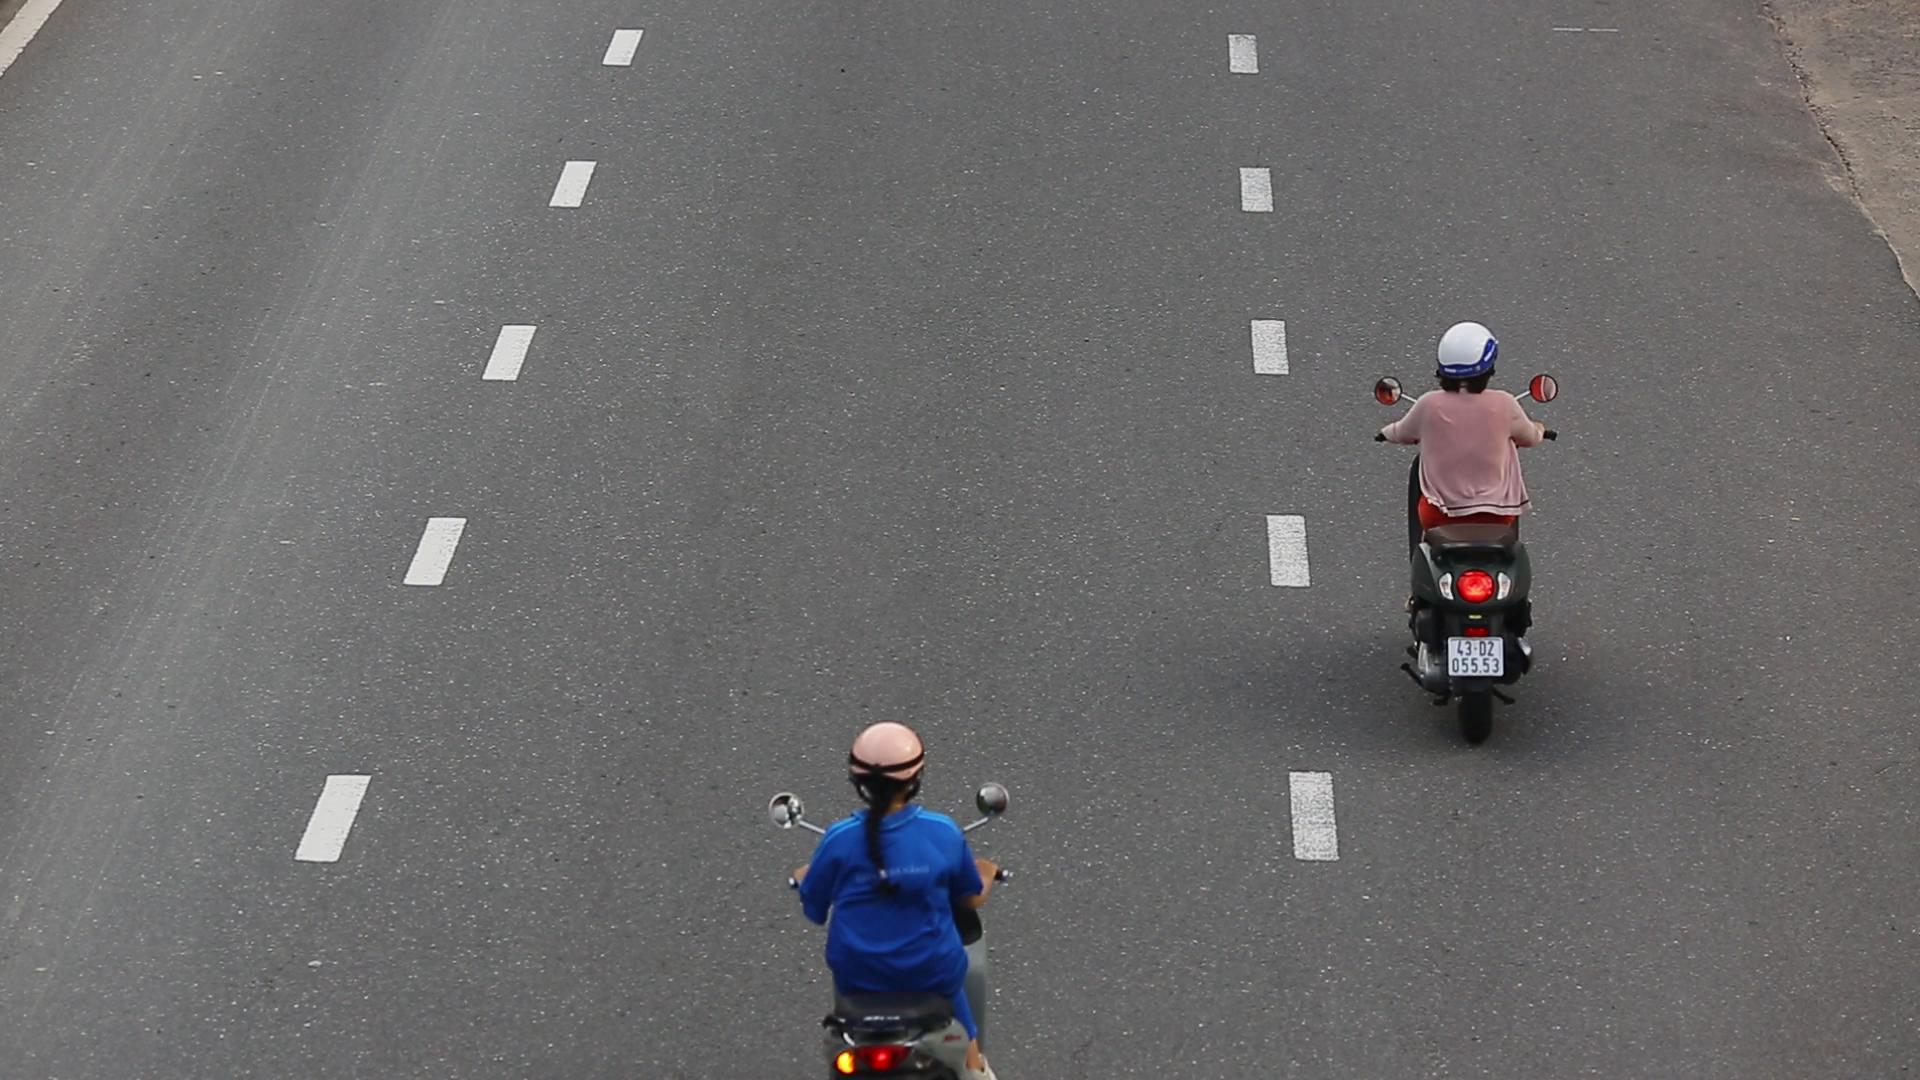motobike: (1364, 313, 1564, 752)
